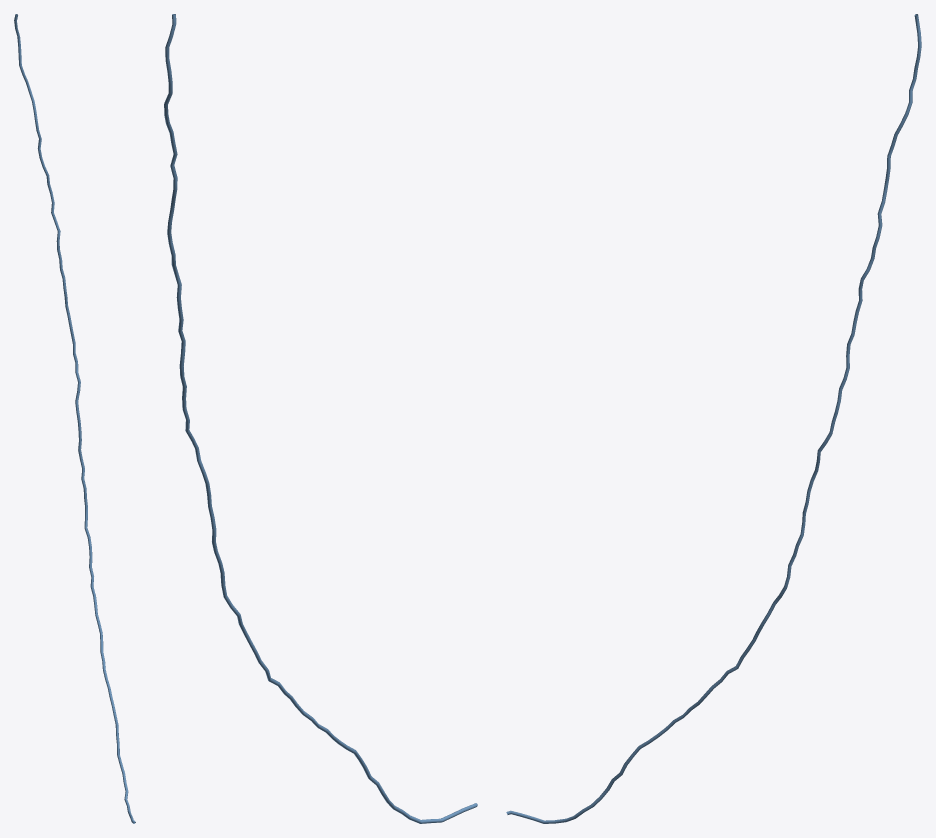
Rendered from sweep333.fbx.
3 views of the same model, side by side, from view 1: azimuth 30°, elevation 25°; view 2: azimuth 150°, elevation 25°; view 3: azimuth 270°, elevation 25° (orthographic). The views are drawn at different scales.
Parts seen in each view (by area): view 1: sweep333; view 2: sweep333; view 3: sweep333.
Part boxes in pixels (x1,y1,x2,y2): sweep333: (14,14,135,823); sweep333: (164,14,477,823); sweep333: (506,14,921,823).
Size of the model in its own units: 0.5936 by 5 by 2.26.
